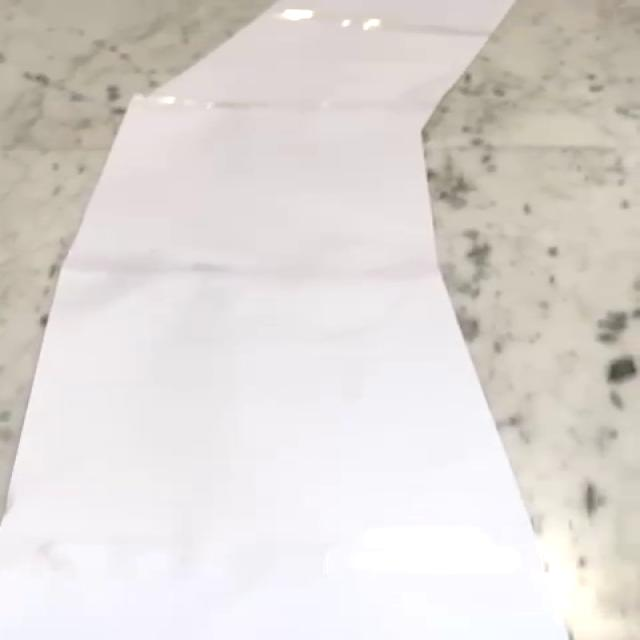road: (3, 0, 565, 640)
